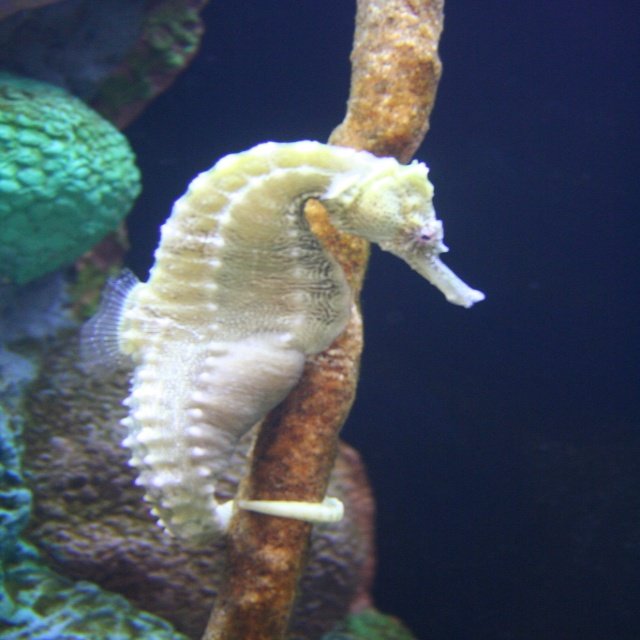Seahorse: (78, 141, 485, 548)
